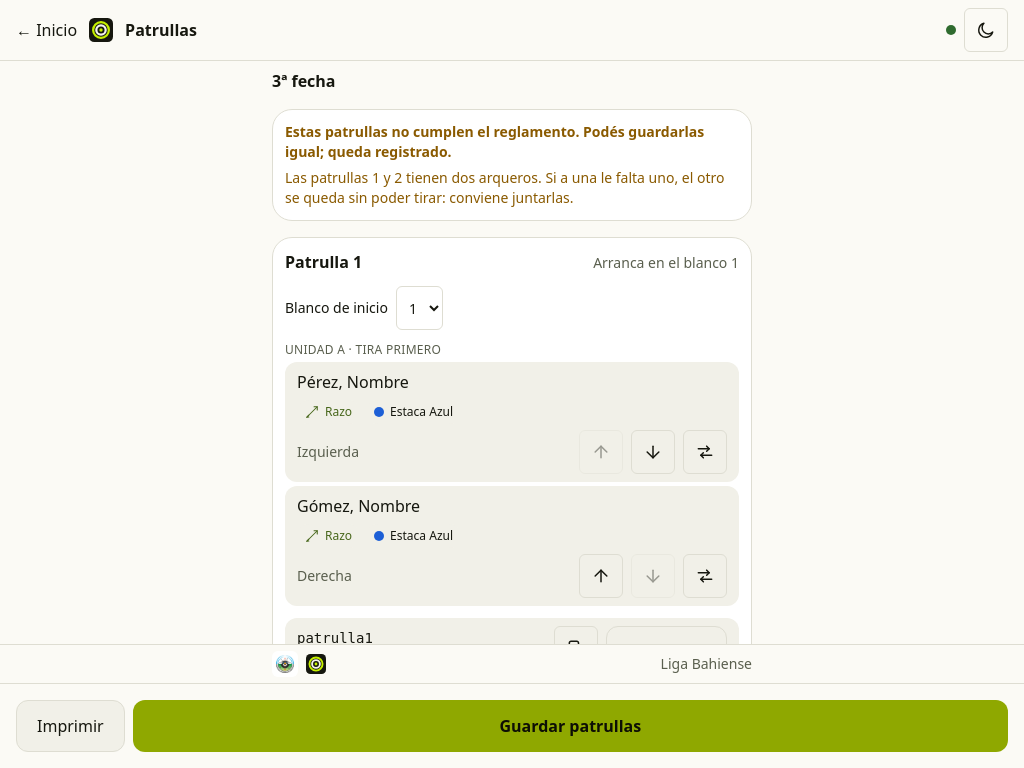
Test: edición manual › mueve un arquero a otra patrulla
The image size is (1024, 768).
Expected: the element with test id "patrulla-1" is shown, x1=272 y1=237 x2=752 y2=644
Click the button named "Mover a Pérez a otra patrulla" at {"x": 705, "y": 452}, box x1=683 y1=430 x2=727 y2=474
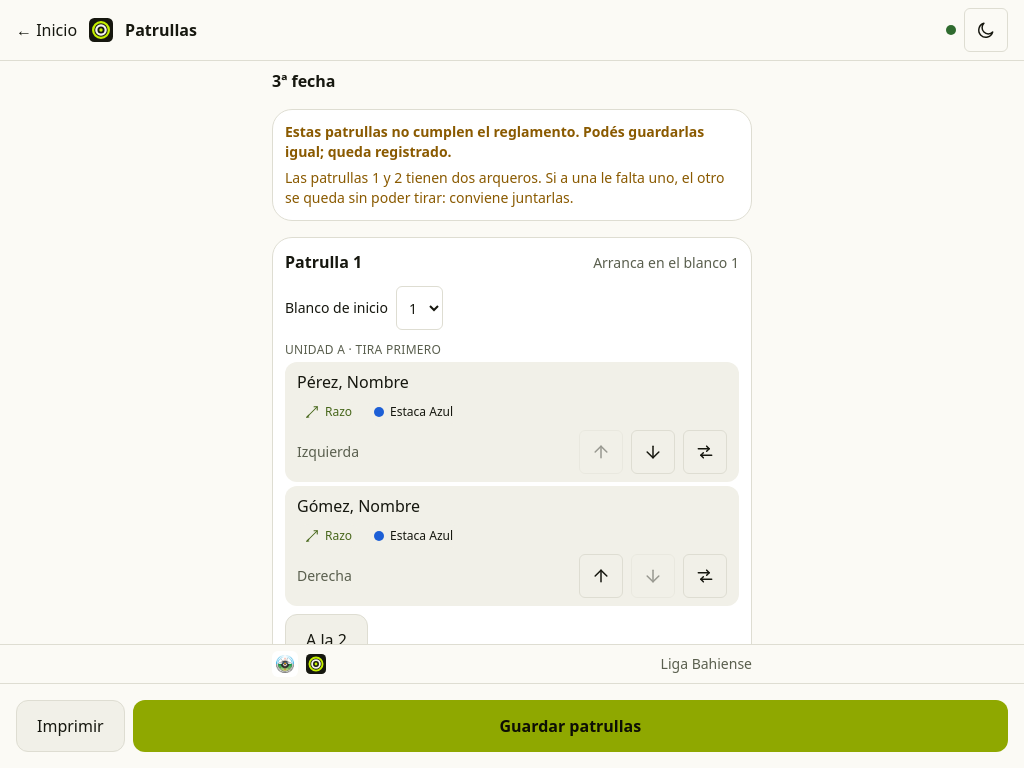
Click the button "A la 2" at {"x": 326, "y": 640}, box x1=285 y1=614 x2=368 y2=666
(page scrolled)
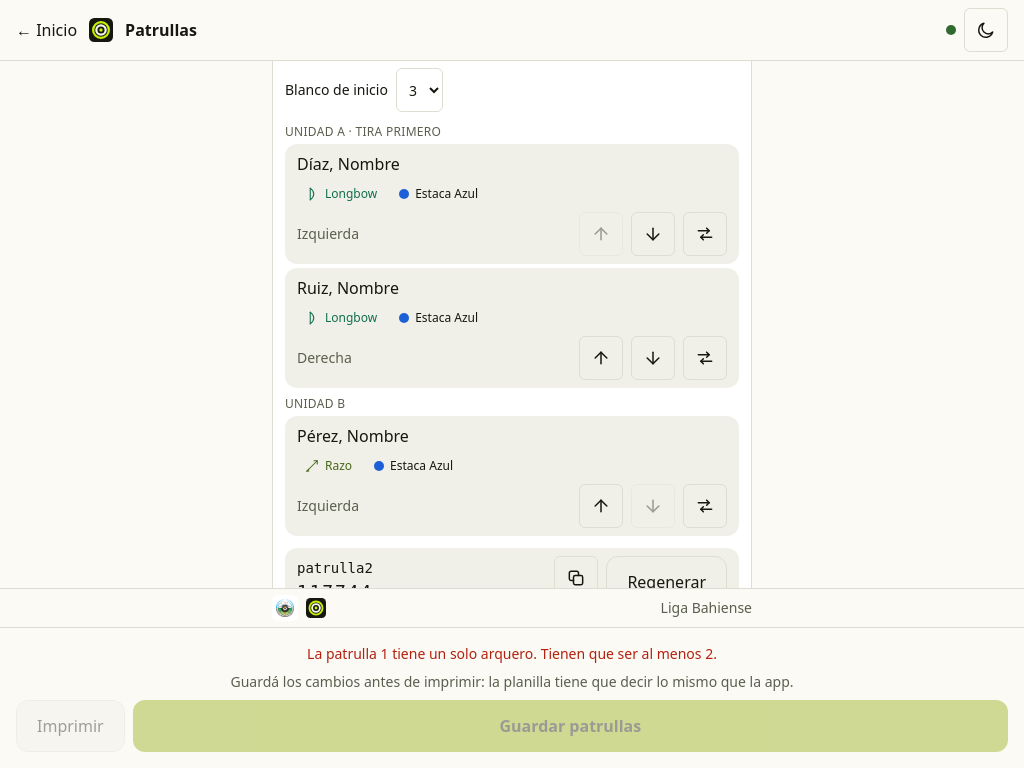
Expected: the element with test id "patrulla-2" shows "Pérez", x1=297 y1=425 x2=338 y2=447
Now the element with test id "patrulla-1" no longer shows "Pérez"
